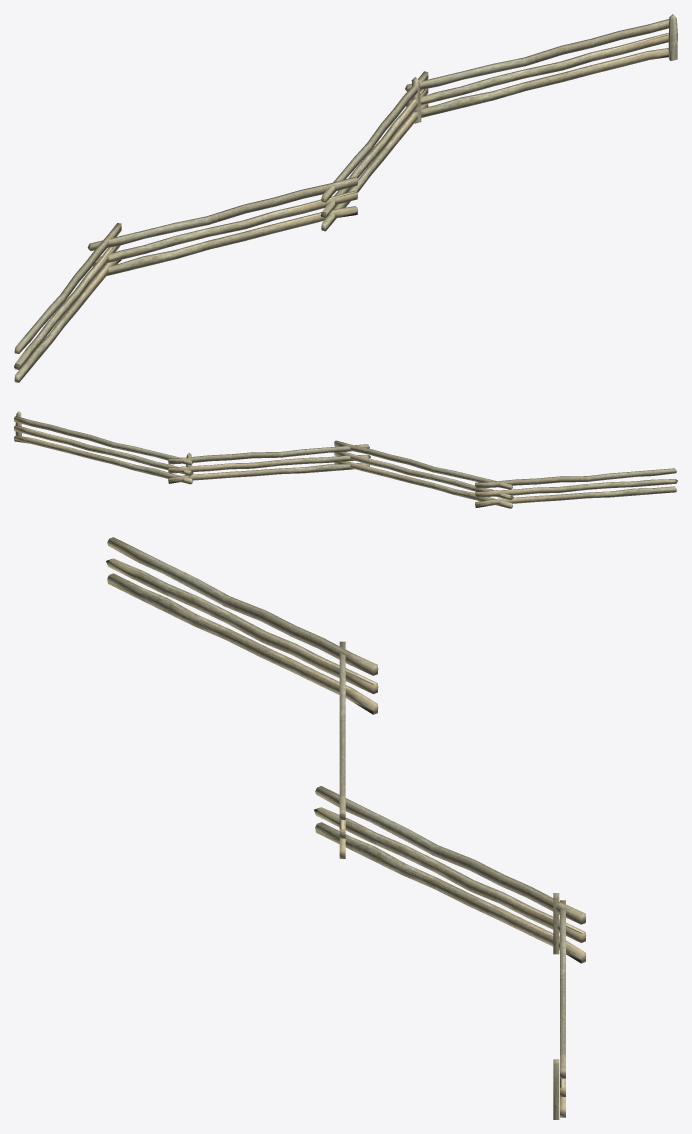
File: fence2_exampleuse.obj
3 views of the same model, one above another, from view 1: azimuth 30°, elevation 25°; view 2: azimuth 150°, elevation 25°; view 3: azimuth 270°, elevation 25° (orthographic). The views are drawn at different scales.
Parts seen in each view (by area): view 1: wdfen2; view 2: wdfen2; view 3: wdfen2.
Part boxes in pixels (left/top/right/bottom): wdfen2: left=14, top=14, right=677, bottom=382; wdfen2: left=14, top=411, right=677, bottom=508; wdfen2: left=106, top=537, right=586, bottom=1119.
Size of the model in its own units: 27.76 by 1.42 by 10.5.
1 material, 1 textured.
